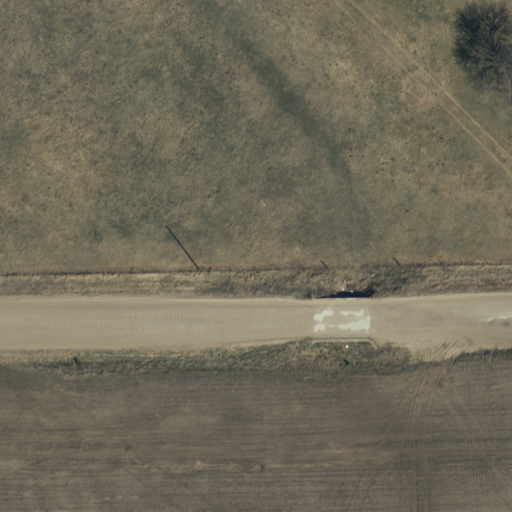DT: (190, 258, 211, 283)
